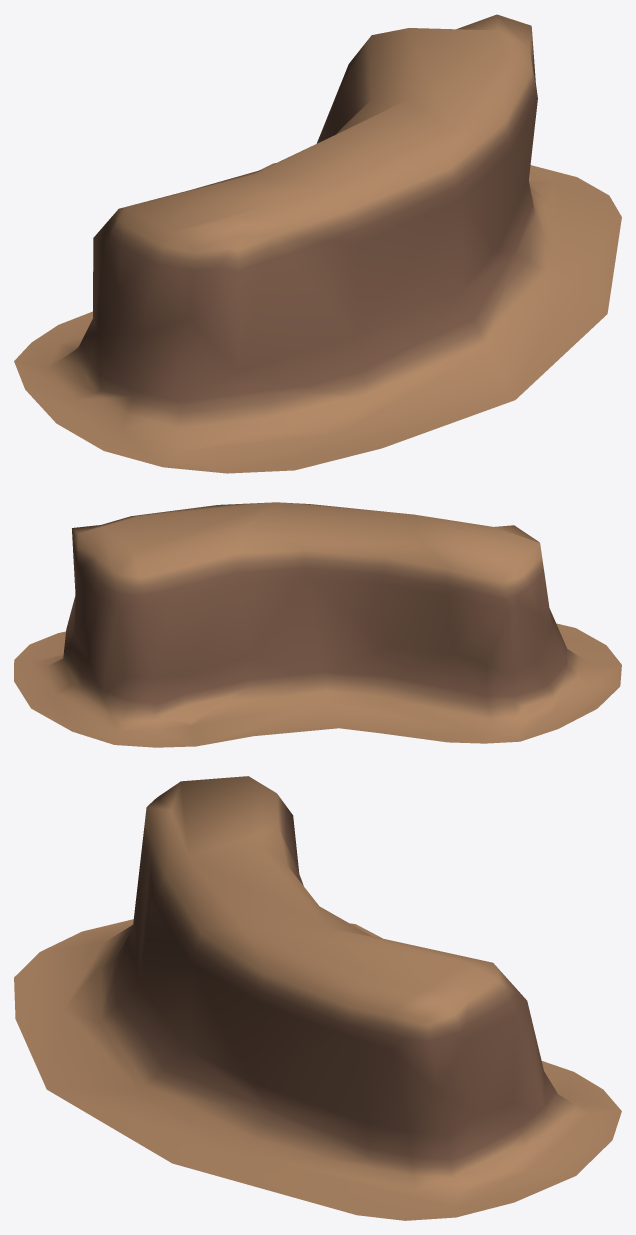
The model's file is Mines Model Curve Half.glb.
3 renders of one model, top to bottom at view 1: azimuth 30°, elevation 25°; view 2: azimuth 150°, elevation 25°; view 3: azimuth 270°, elevation 25°, orthographic. The views are drawn at different scales.
Parts seen in each view (by area): view 1: Mines Model Curve Half; view 2: Mines Model Curve Half; view 3: Mines Model Curve Half.
Boxes of the visible parts, <box> form: Mines Model Curve Half: <box>14,14,621,473</box>; Mines Model Curve Half: <box>14,502,621,747</box>; Mines Model Curve Half: <box>14,776,621,1220</box>.
Size of what is drawn, in the model's own units: 17.06 by 4.79 by 14.31.
1 material, 1 textured.
